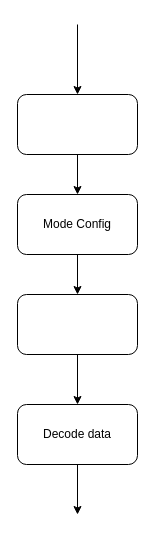
This 155x540 diagram has some shape labels left out. Here are the shapes that lost their labels. From the top down, the centre of each, then its label:
(77,124): I2C Config
(77,324): Read data
